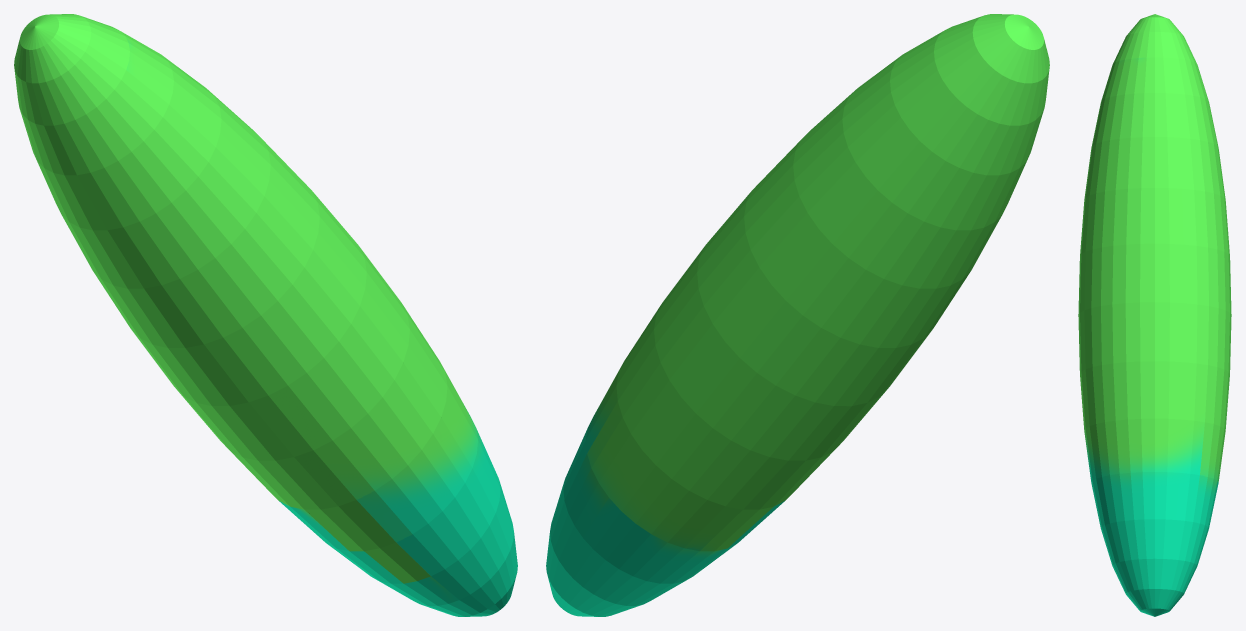
Rendered from enemy_armL.obj.
The picture shows the model from 3 angles, left to right: view 1: azimuth 30°, elevation 25°; view 2: azimuth 150°, elevation 25°; view 3: azimuth 270°, elevation 25°; orthographic projection. The views are drawn at different scales.
Visible parts, largest first — view 1: leftHand; view 2: leftHand; view 3: leftHand.
Part boxes in pixels (bbox=[...]): leftHand: bbox=[14, 14, 517, 616]; leftHand: bbox=[546, 14, 1049, 616]; leftHand: bbox=[1078, 14, 1231, 616].
Size of the model in its own units: 2.43 by 3.32 by 0.9998.
1 material, 1 textured.
